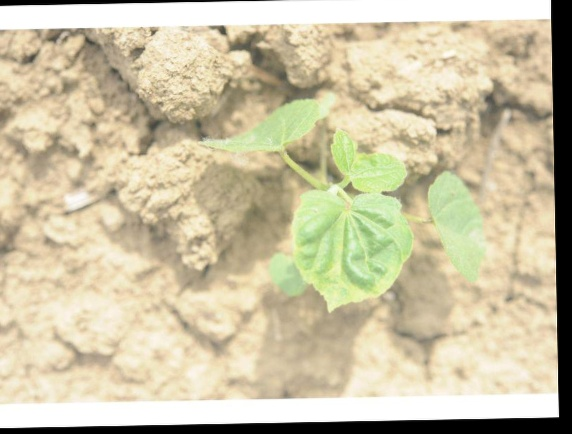velvet: (198, 98, 489, 310)
